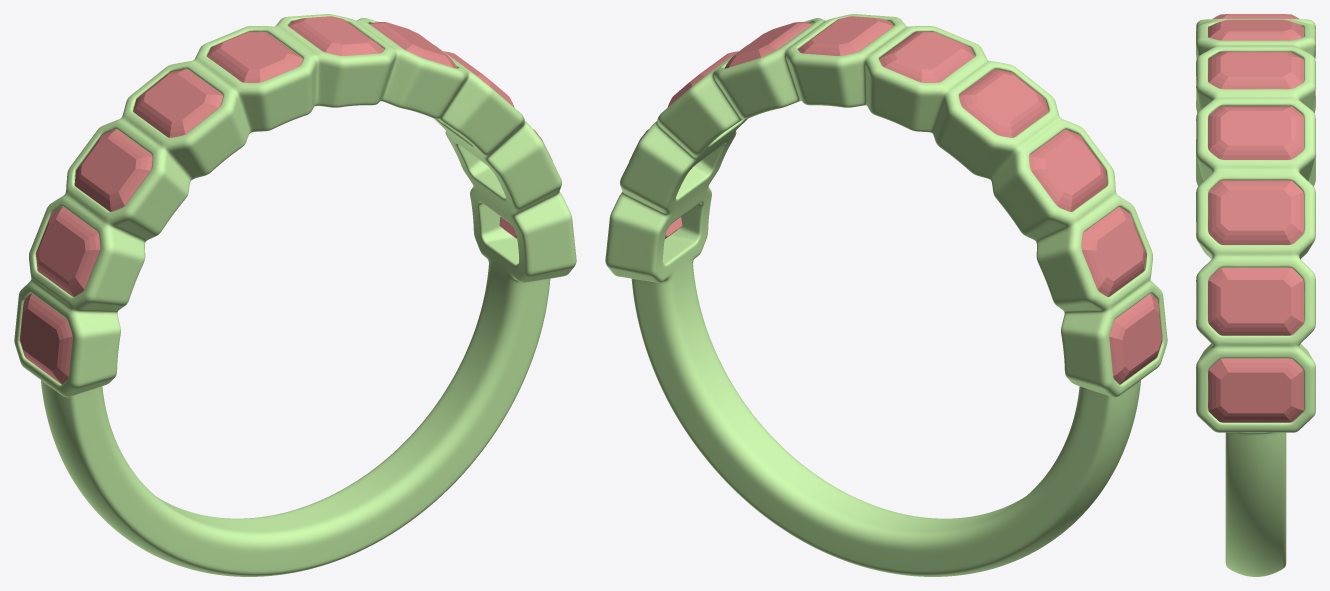
Rendered from BE2DB150LC_RENDER.glb.
3 views of the same model, side by side, from view 1: azimuth 30°, elevation 25°; view 2: azimuth 150°, elevation 25°; view 3: azimuth 270°, elevation 25° (orthographic). The views are drawn at different scales.
Parts seen in each view (by area): view 1: Metal03, Diamond_Emerald_Gem_BD.004, Diamond_Emerald_Gem_BD.007, Diamond_Emerald_Gem_BD.006, Diamond_Emerald_Gem_BD.005, Diamond_Emerald_Gem_BD.002, Diamond_Emerald_Gem_BD, Diamond_Emerald_Gem_BD.009; view 2: Metal03, Diamond_Emerald_Gem_BD.004, Diamond_Emerald_Gem_BD.007, Diamond_Emerald_Gem_BD.006, Diamond_Emerald_Gem_BD.005, Diamond_Emerald_Gem_BD.002, Diamond_Emerald_Gem_BD, Diamond_Emerald_Gem_BD.009; view 3: Metal03, Diamond_Emerald_Gem_BD.008, Diamond_Emerald_Gem_BD.001, Diamond_Emerald_Gem_BD.003, Diamond_Emerald_Gem_BD.009, Diamond_Emerald_Gem_BD, Diamond_Emerald_Gem_BD.002, Diamond_Emerald_Gem_BD.006.
Boxes of the visible parts, x1,y1,x2,y2 form: Metal03: [14, 14, 576, 576]; Diamond_Emerald_Gem_BD.004: [74, 129, 152, 211]; Diamond_Emerald_Gem_BD.007: [36, 206, 100, 296]; Diamond_Emerald_Gem_BD.006: [133, 69, 222, 137]; Diamond_Emerald_Gem_BD.005: [19, 293, 72, 384]; Diamond_Emerald_Gem_BD.002: [207, 31, 302, 82]; Diamond_Emerald_Gem_BD: [288, 16, 383, 55]; Diamond_Emerald_Gem_BD.009: [369, 22, 457, 68]; Metal03: [605, 14, 1167, 576]; Diamond_Emerald_Gem_BD.004: [1029, 129, 1107, 211]; Diamond_Emerald_Gem_BD.007: [1081, 207, 1145, 296]; Diamond_Emerald_Gem_BD.006: [959, 69, 1048, 137]; Diamond_Emerald_Gem_BD.005: [1109, 293, 1162, 384]; Diamond_Emerald_Gem_BD.002: [879, 31, 974, 82]; Diamond_Emerald_Gem_BD: [798, 16, 893, 55]; Diamond_Emerald_Gem_BD.009: [724, 22, 812, 68]; Metal03: [1196, 18, 1315, 576]; Diamond_Emerald_Gem_BD.008: [1208, 267, 1303, 335]; Diamond_Emerald_Gem_BD.001: [1208, 180, 1303, 244]; Diamond_Emerald_Gem_BD.003: [1208, 358, 1303, 422]; Diamond_Emerald_Gem_BD.009: [1208, 106, 1303, 159]; Diamond_Emerald_Gem_BD: [1208, 51, 1303, 89]; Diamond_Emerald_Gem_BD.002: [1208, 19, 1303, 40]; Diamond_Emerald_Gem_BD.006: [1213, 14, 1298, 18].
Size of the model in its own units: 20.78 by 20.4 by 4.35.
